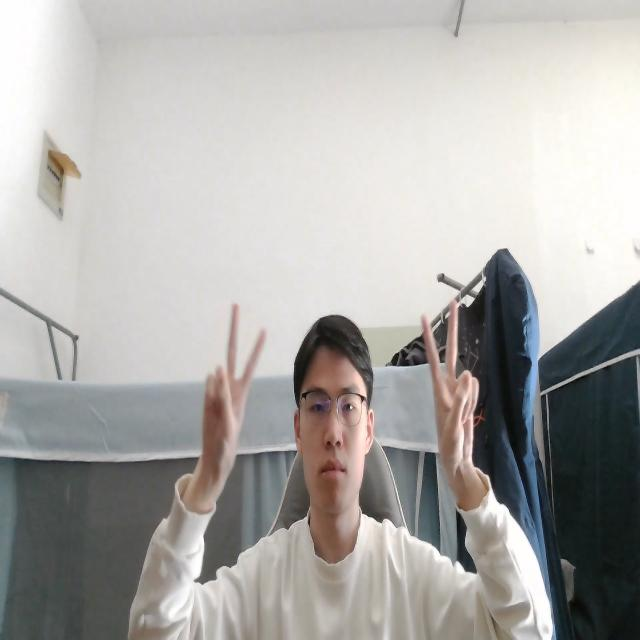yes: (170, 293, 273, 518), (418, 292, 482, 488)
